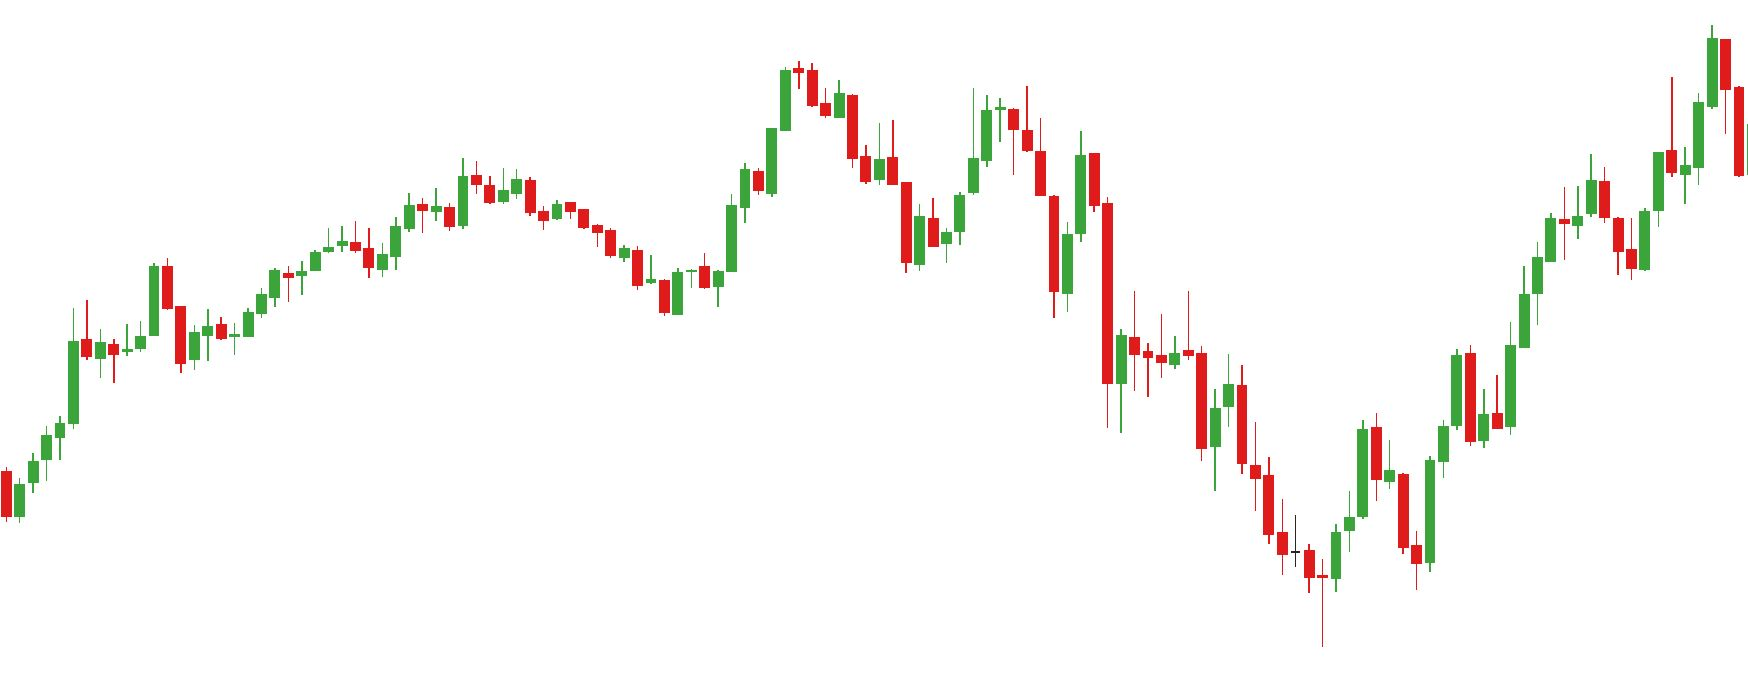sell: (870, 83, 1022, 215)
